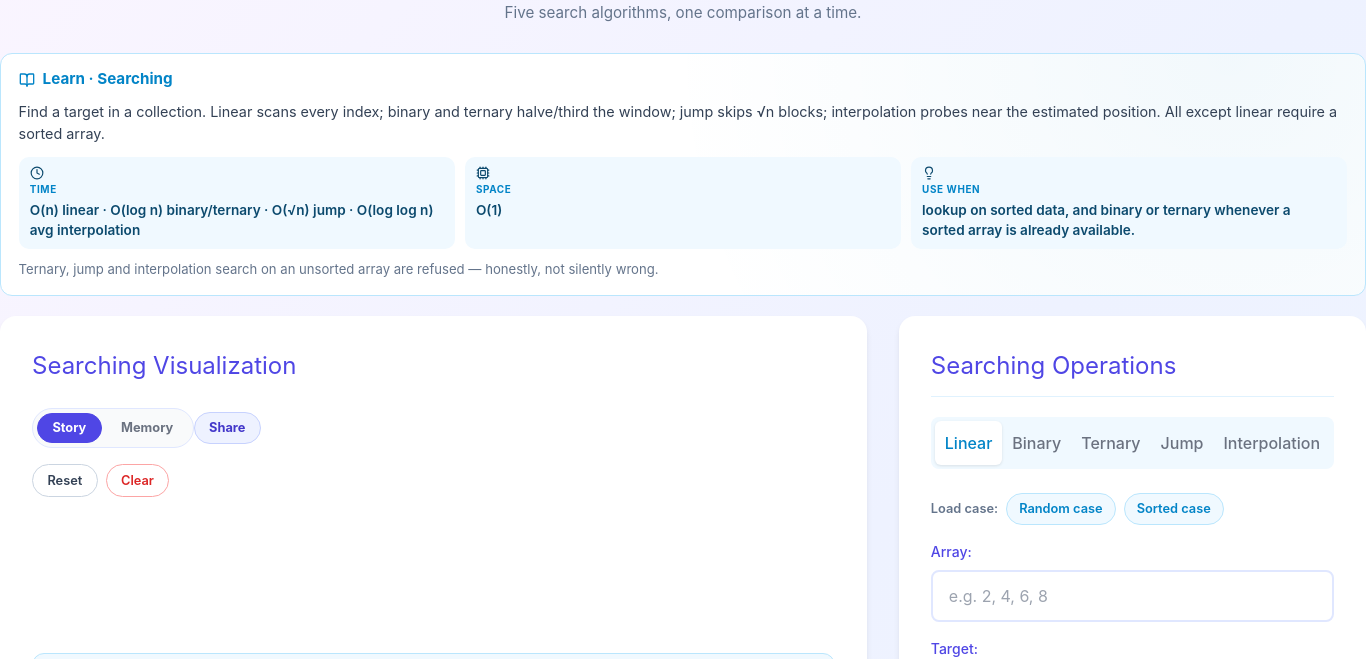
Test case: Searching › switching to Binary swaps the run button
Click the button "Binary": {"x": 1037, "y": 442} x1=1002 y1=420 x2=1071 y2=464
(page scrolled)
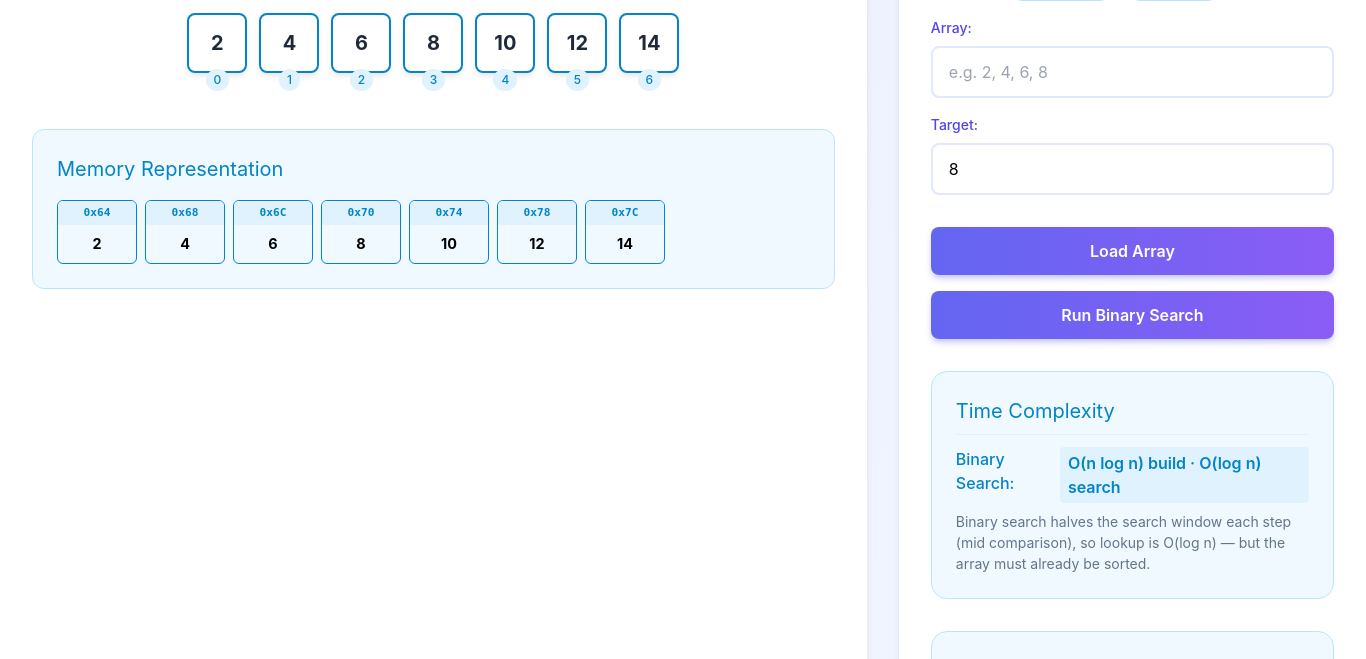
Check: the button "Run Binary Search" is shown, box x1=931 y1=291 x2=1334 y2=339
